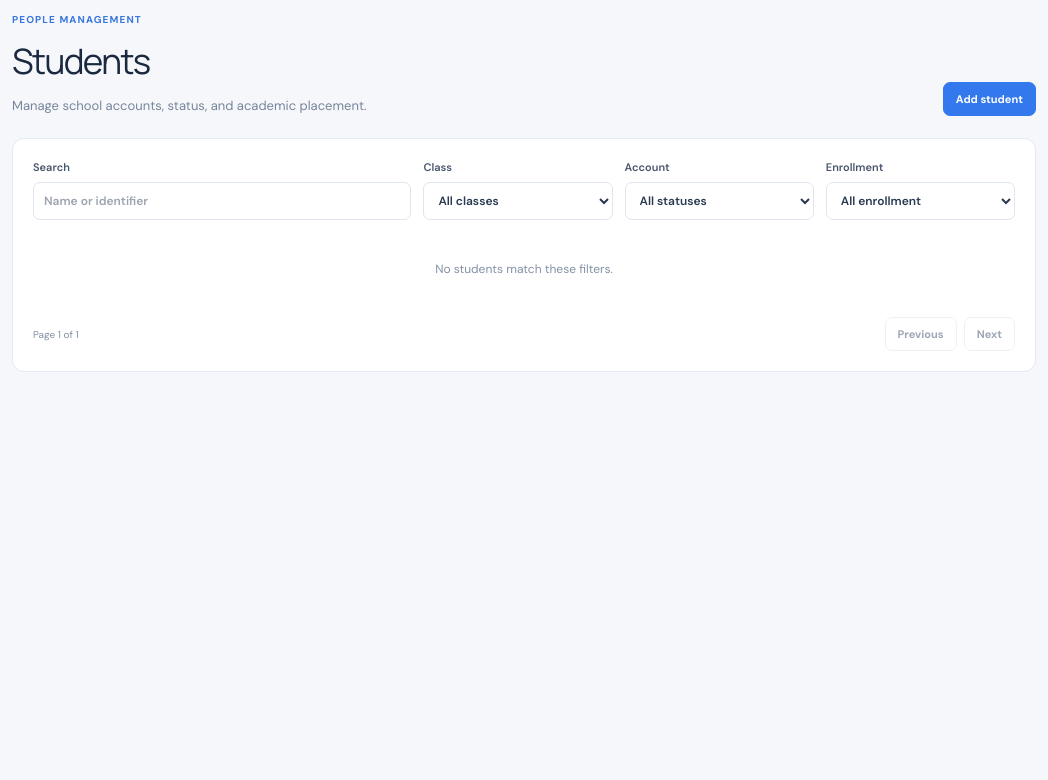
Scenario: admin management pages › validates and creates a student, then shows the one-time credential
This screenshot has width=1048, height=780.
Click the button "Add student" at (989, 99), box left=943, top=82, right=1036, bottom=116
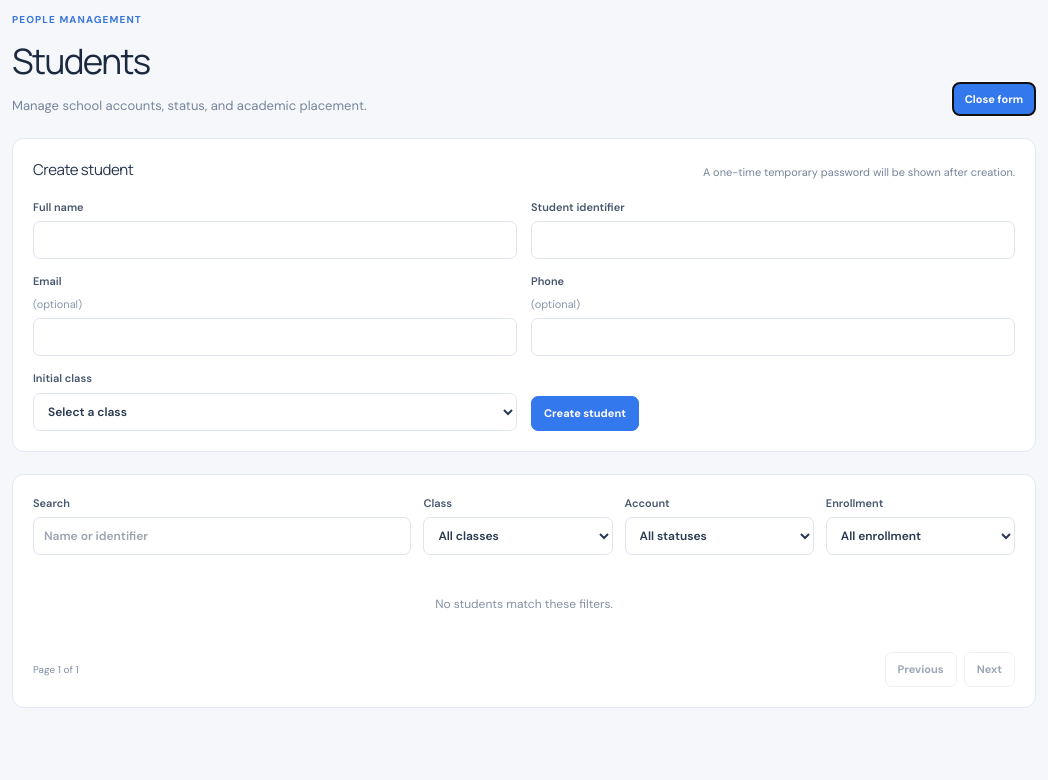
Click the button "Create student" at (585, 414), box left=531, top=396, right=639, bottom=431
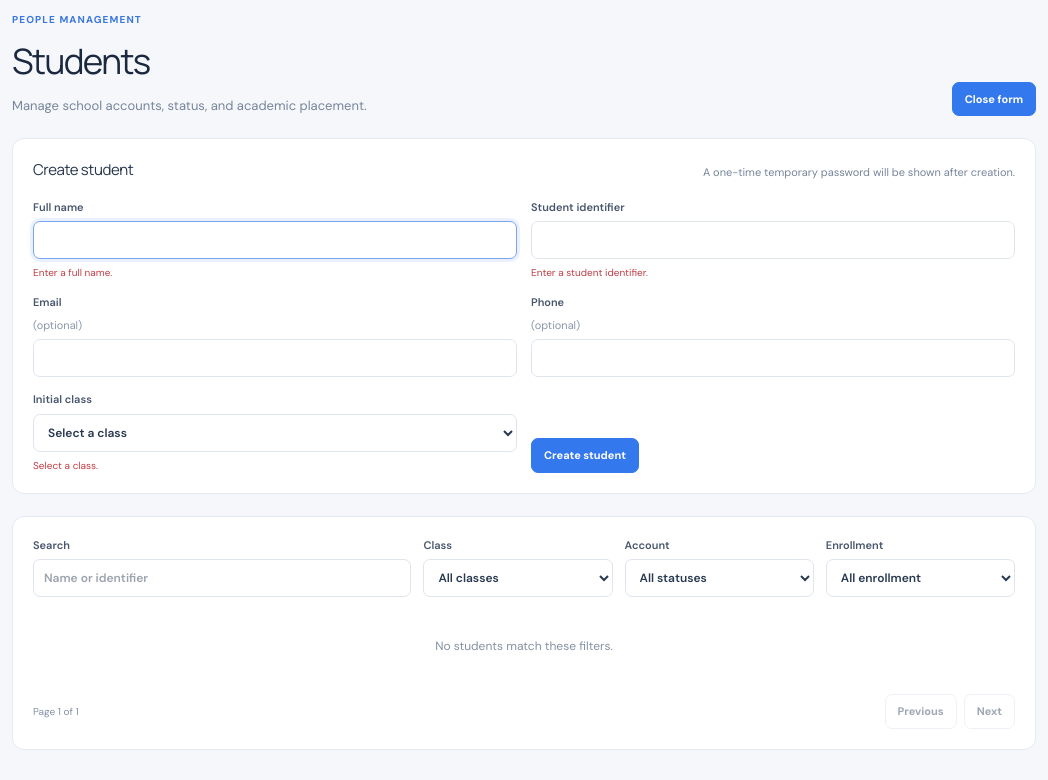
Check: the text "Enter a full name." is shown, box left=33, top=266, right=112, bottom=279
Type "New Student" into the field labelled "Full name Enter a full name." at (275, 240), box left=33, top=221, right=517, bottom=259
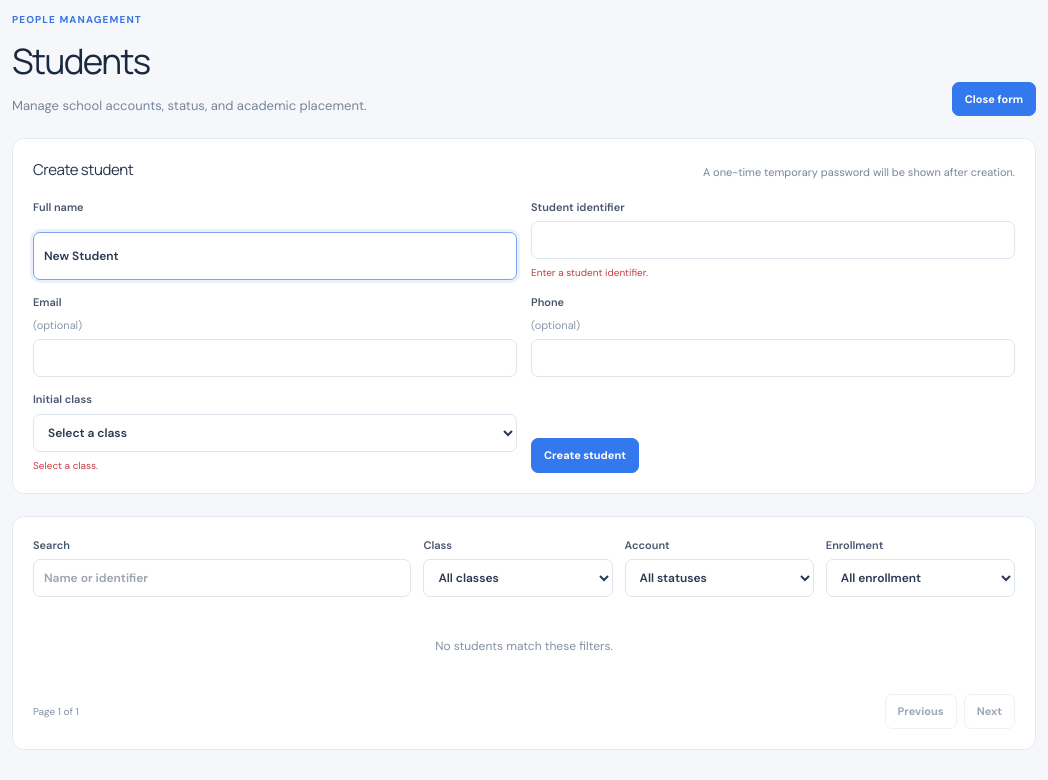
Type "STU-1" into the field labelled "Student identifier Enter a student identifier." at (773, 240), box left=531, top=221, right=1015, bottom=259
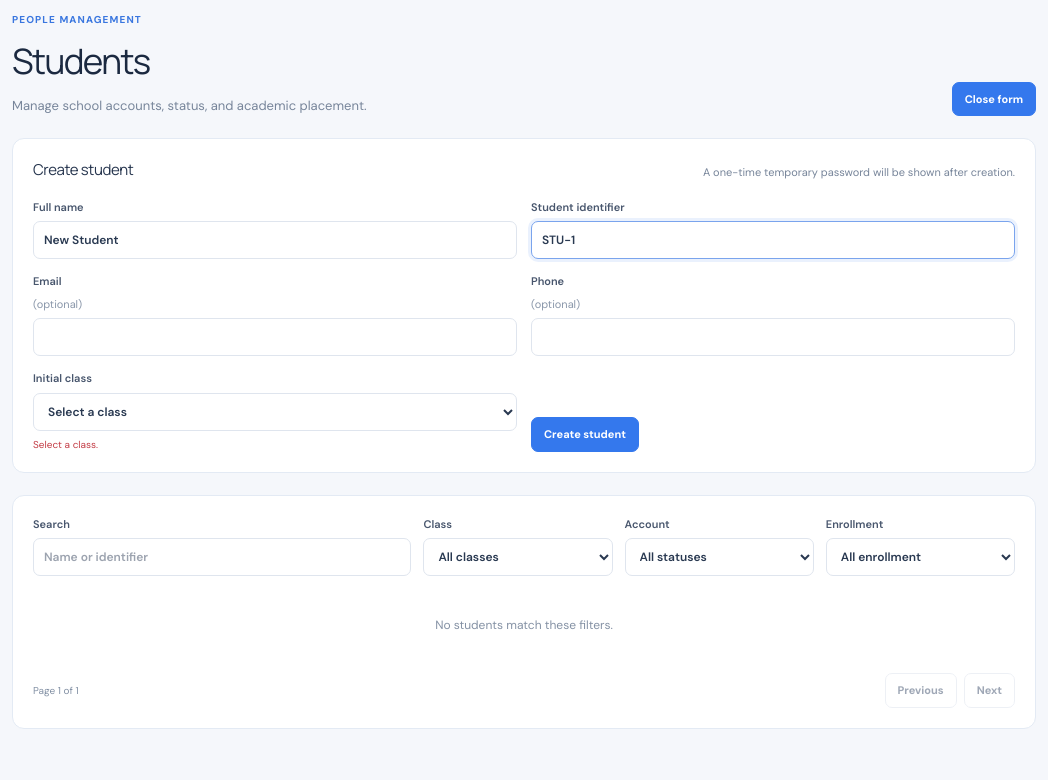
Select "Grade 8 A · 2026-27" in the dropdown labelled "Initial class Select a class." at (275, 412), box left=33, top=393, right=517, bottom=431
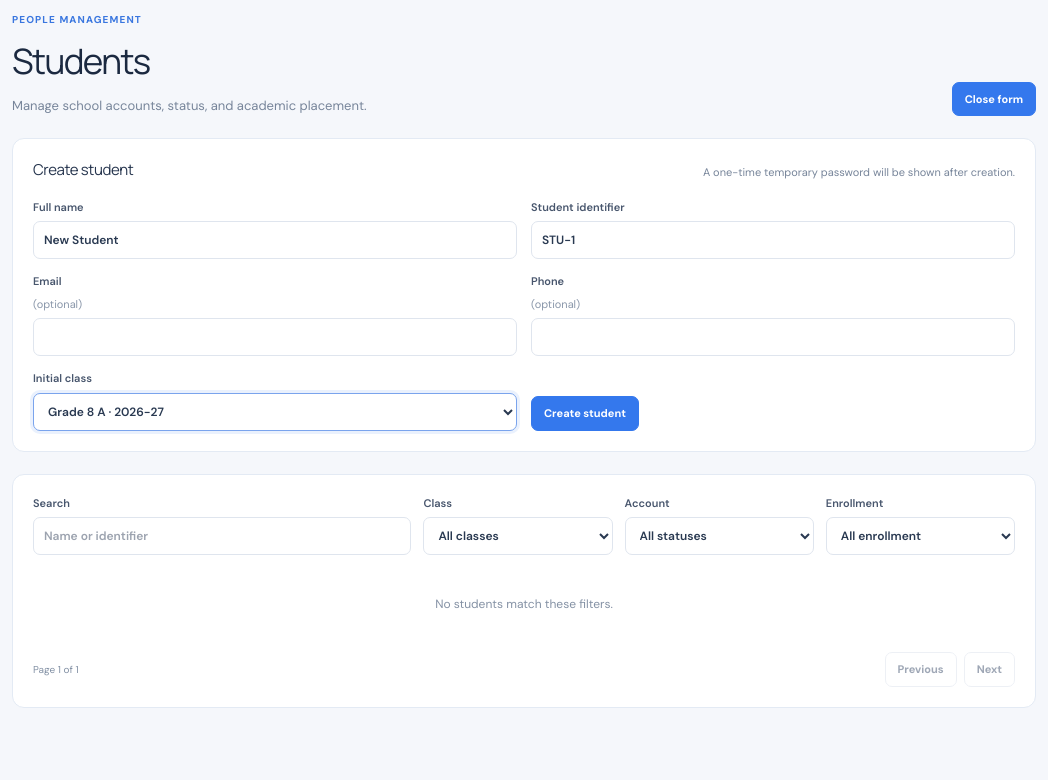
Click the button "Create student" at (585, 414), box left=531, top=396, right=639, bottom=431
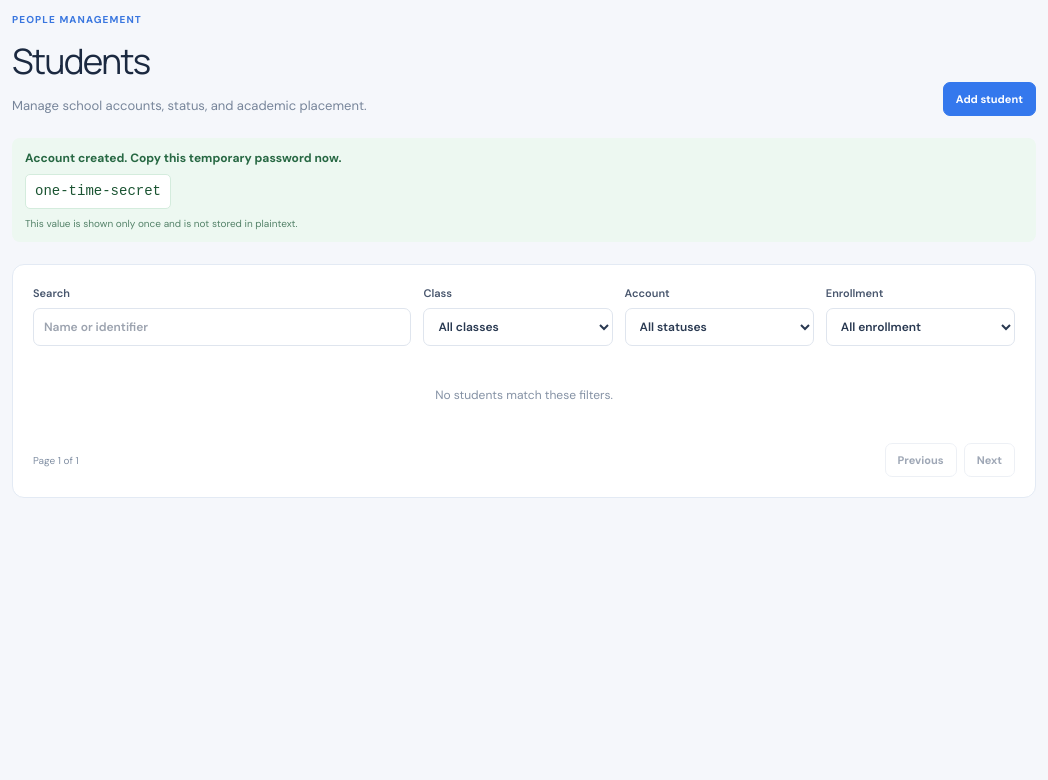
Check: the text "one-time-secret" is shown, box left=25, top=174, right=171, bottom=209
Check: the text "shown only once" is shown, box left=25, top=217, right=298, bottom=230
